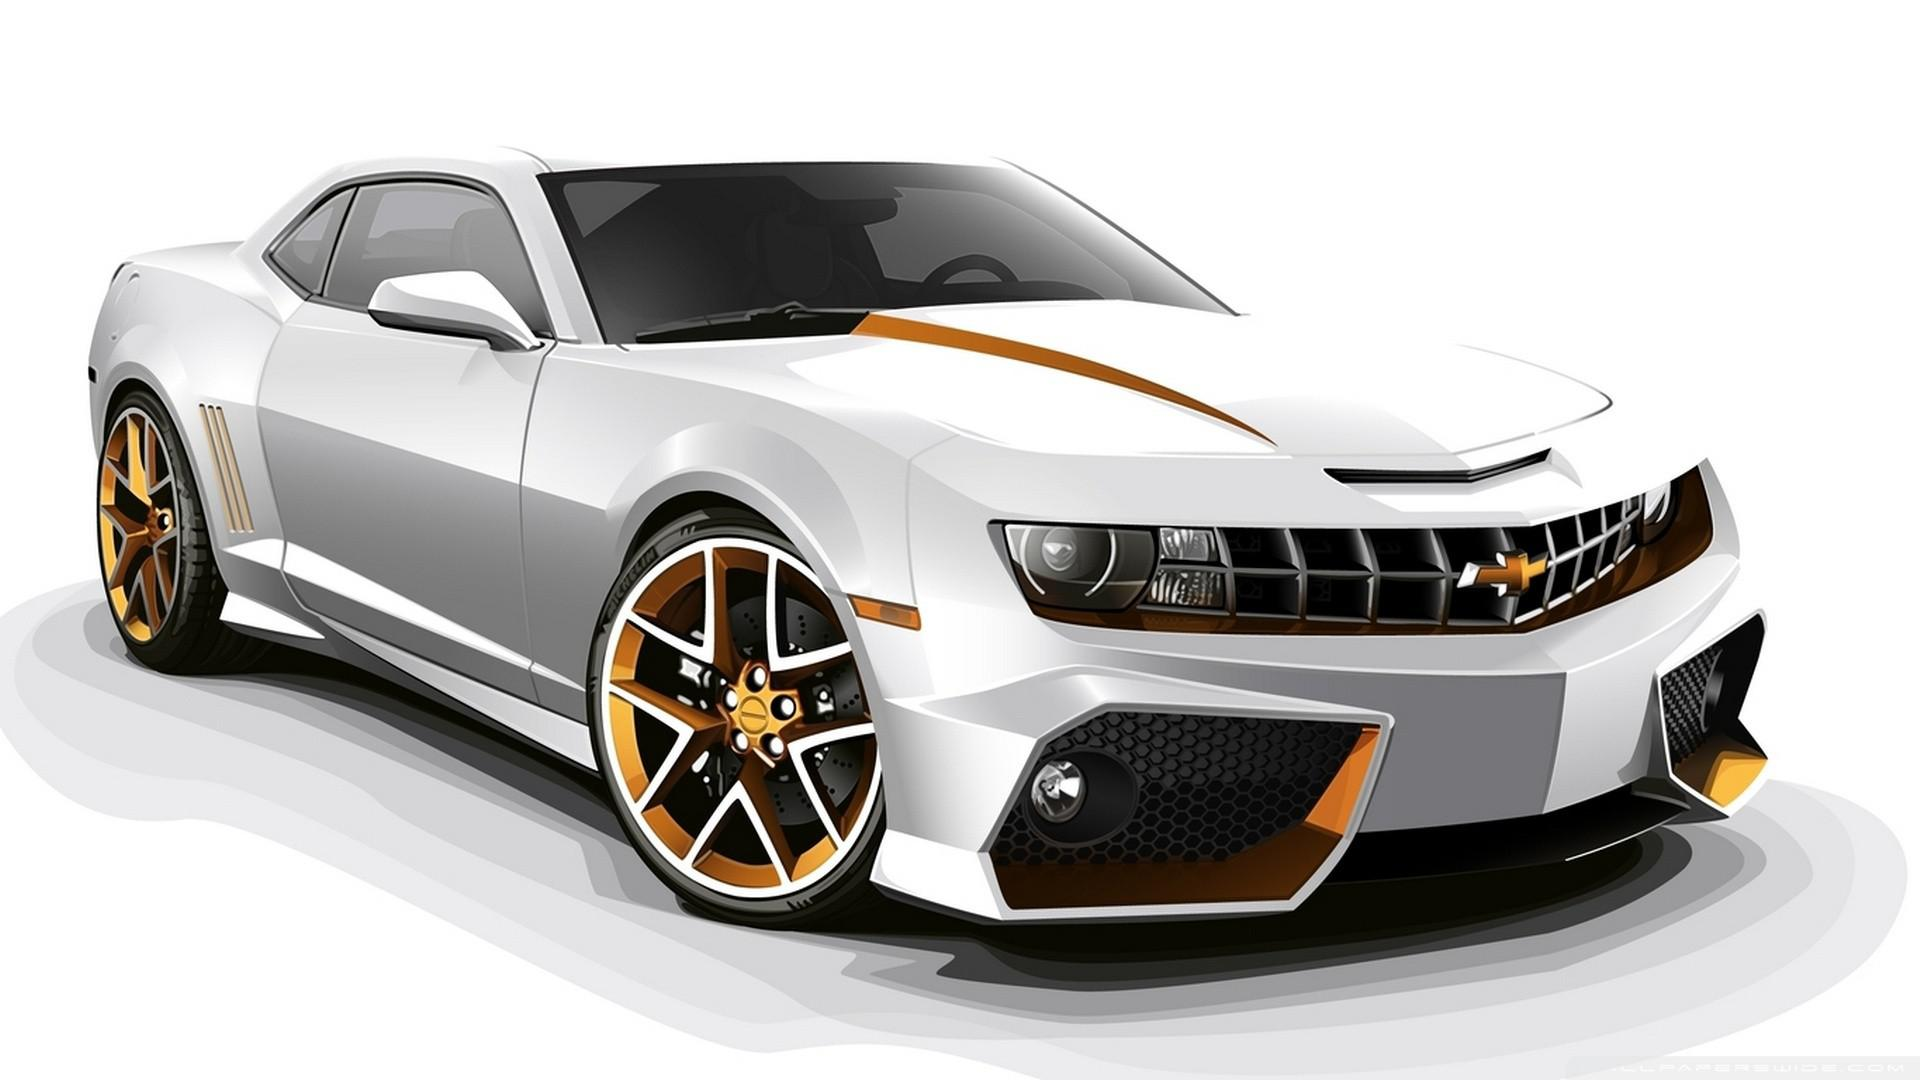car: (69, 117, 1826, 980)
